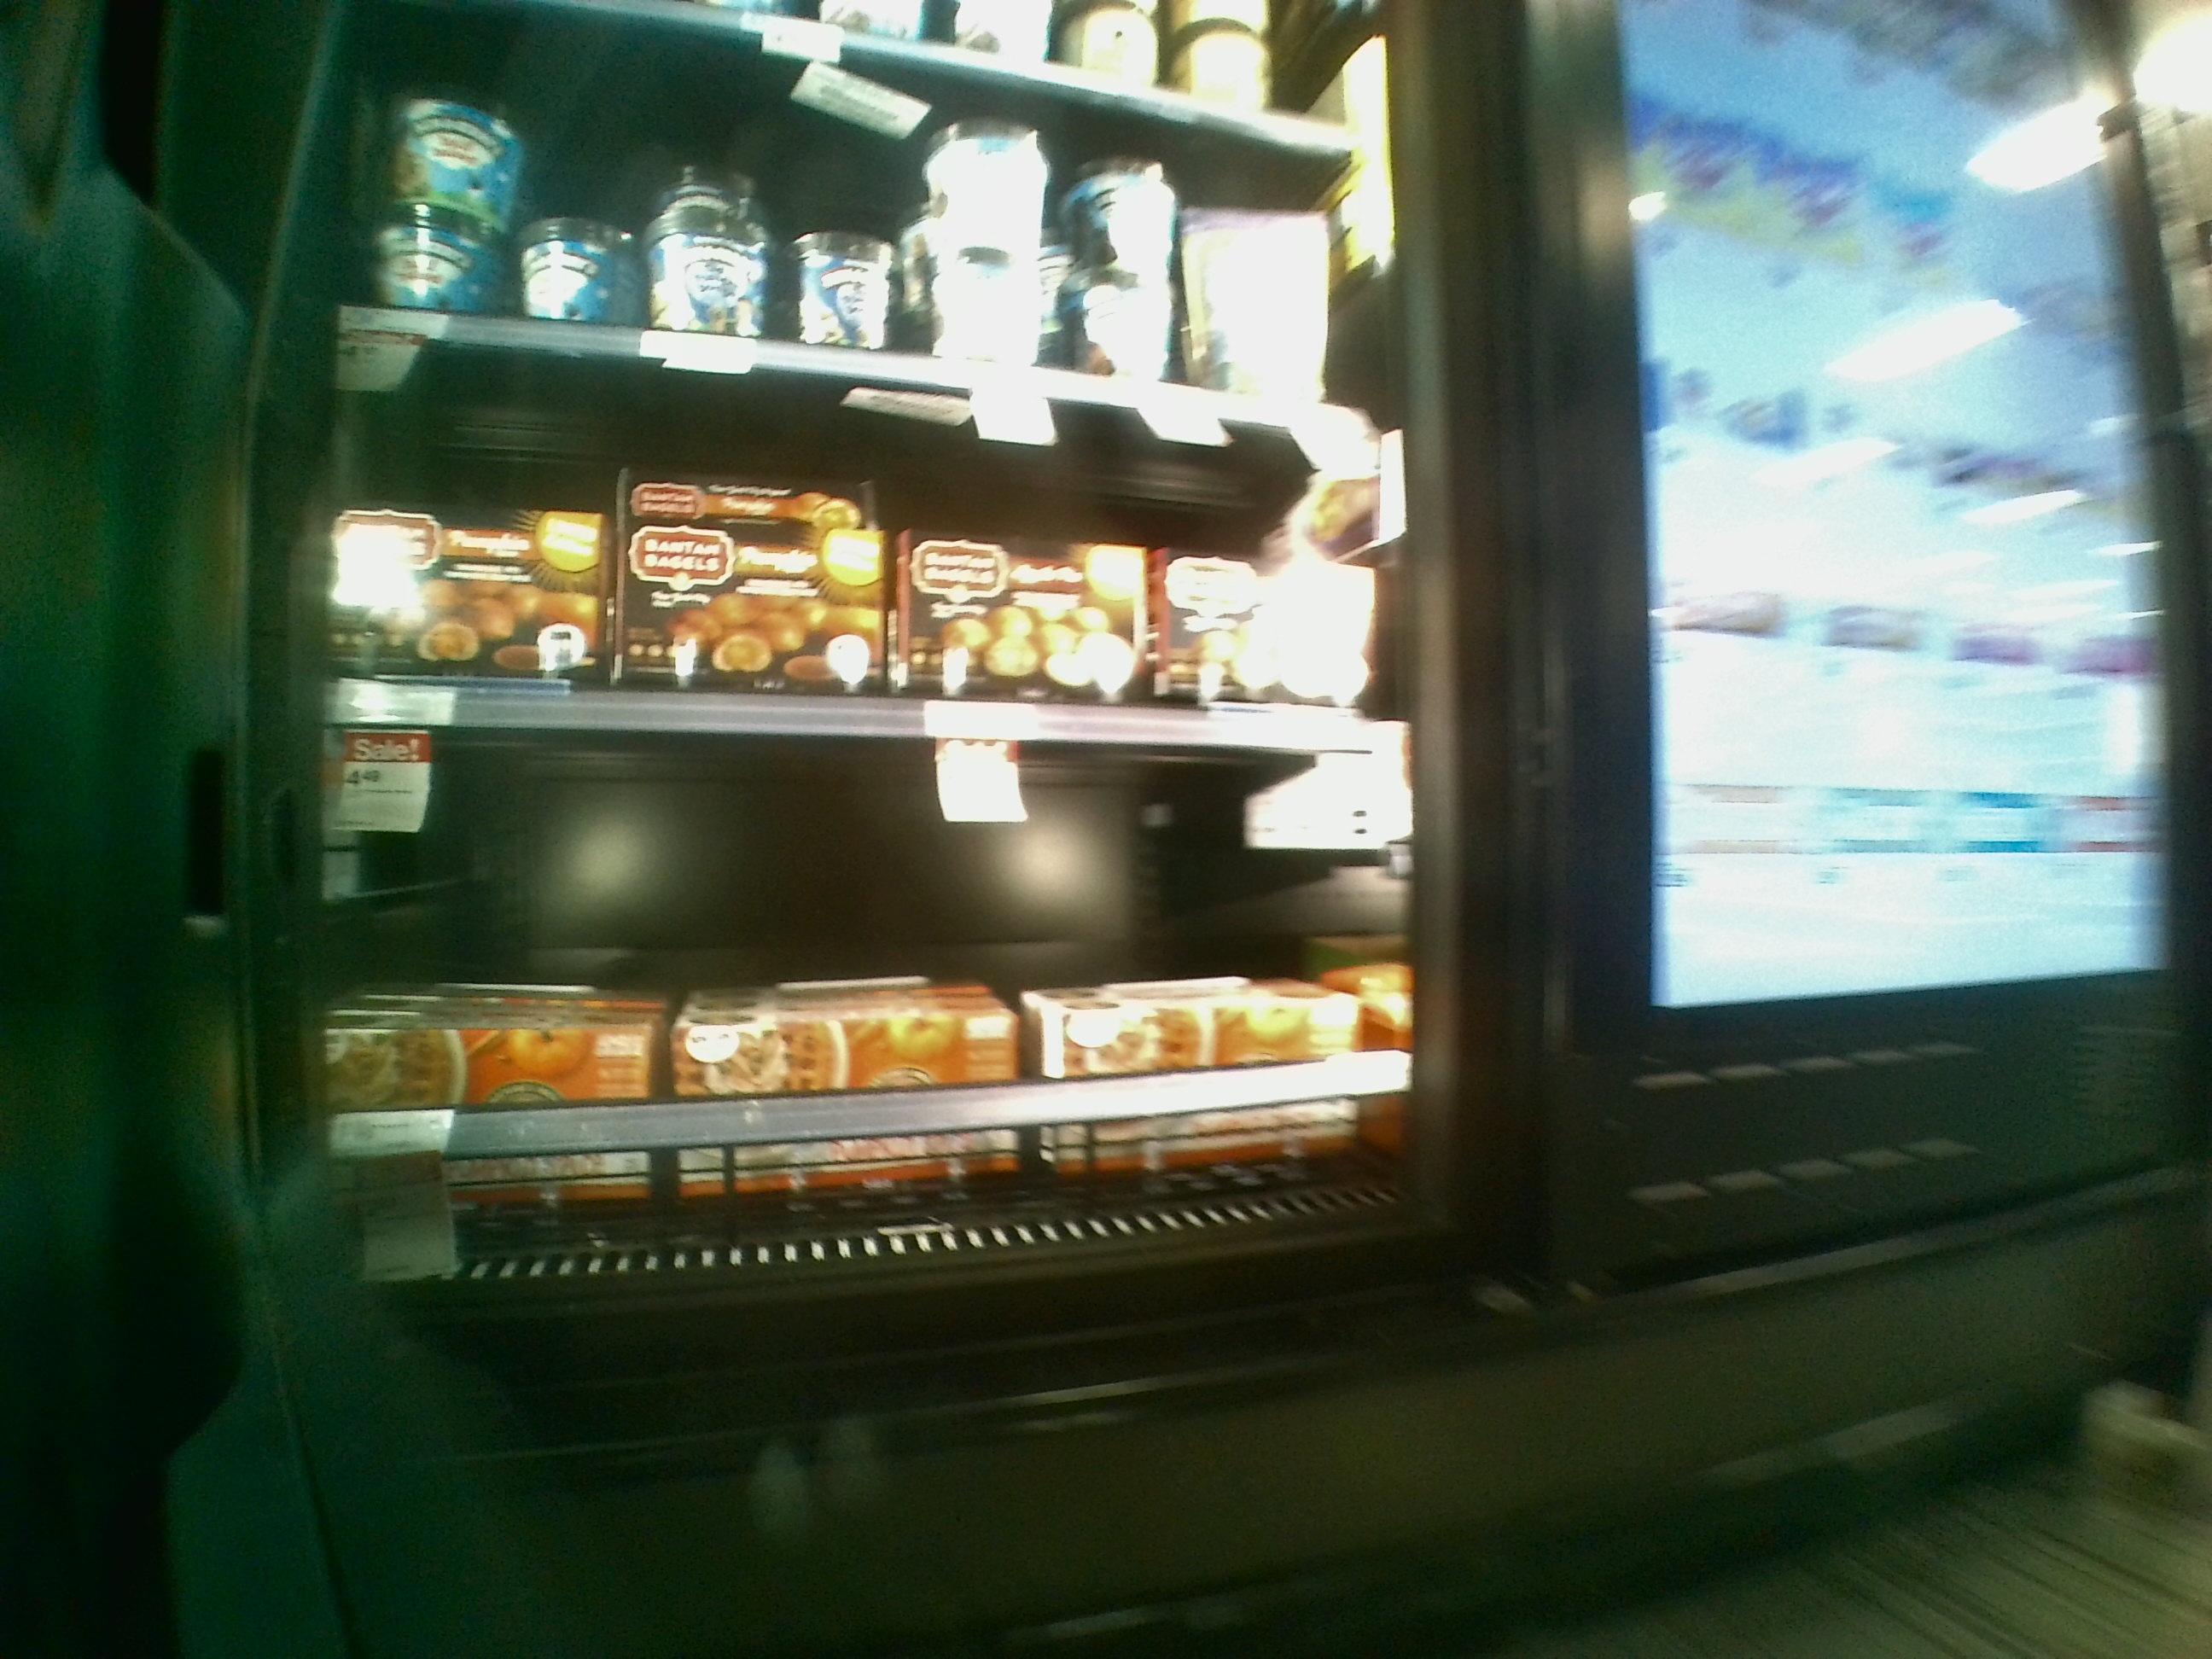shelf: (284, 694, 1437, 1293), (322, 331, 1426, 755)
